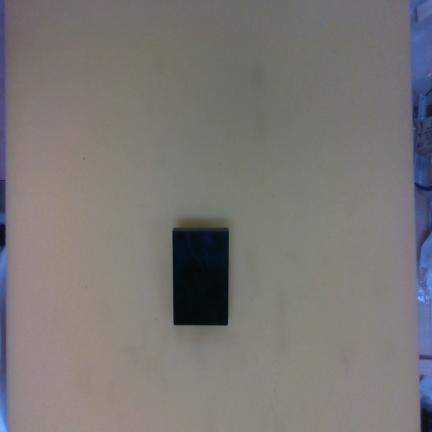tile: (172, 231, 229, 327)
